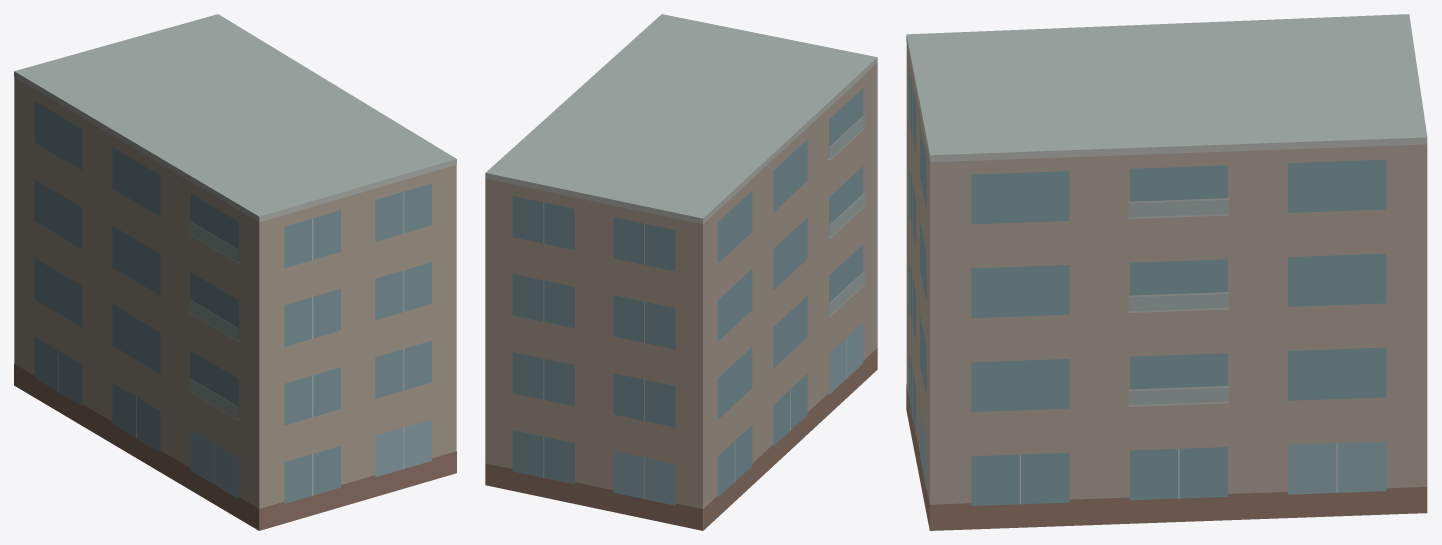
File: survey-upis-32750127.glb
3 renders of one model, left to right at view 1: azimuth 30°, elevation 25°; view 2: azimuth 150°, elevation 25°; view 3: azimuth 270°, elevation 25°, orthographic. The views are drawn at different scales.
Visible parts, largest first — view 1: survey-upis-32750127.tmp; view 2: survey-upis-32750127.tmp; view 3: survey-upis-32750127.tmp.
Boxes of the visible parts, x1,y1,x2,y2 form: survey-upis-32750127.tmp: [14, 14, 456, 530]; survey-upis-32750127.tmp: [485, 14, 877, 530]; survey-upis-32750127.tmp: [906, 14, 1427, 530].
Size of the model in its own units: 10.58 by 13.1 by 16.48.
